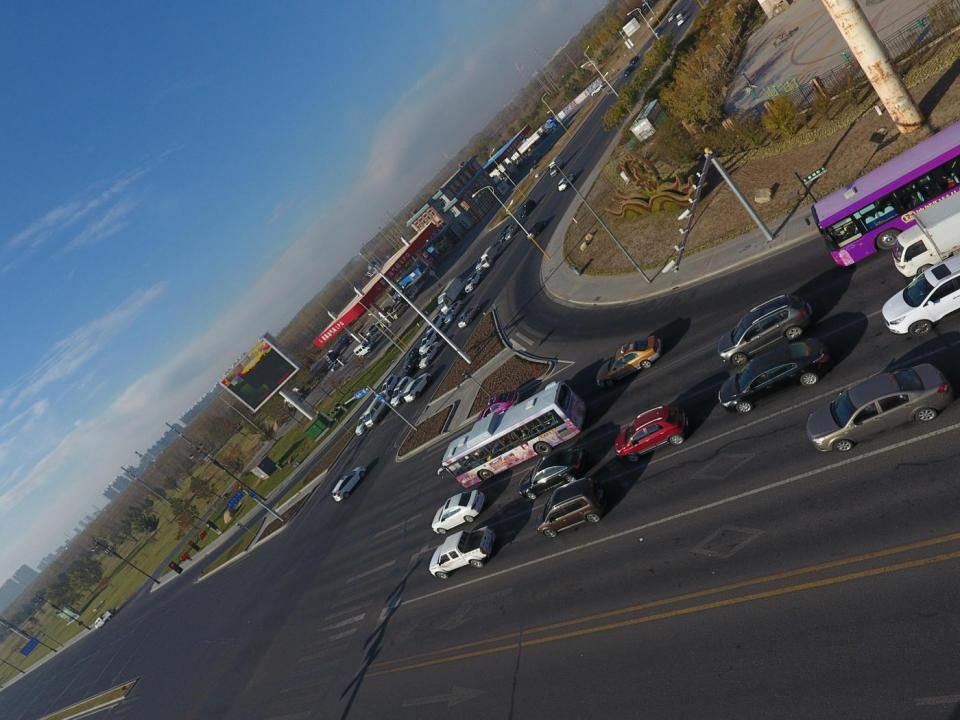bus: (811, 117, 960, 268), (442, 380, 586, 487)
car: (806, 362, 955, 452), (718, 336, 830, 412), (718, 293, 812, 366), (882, 250, 960, 337), (536, 479, 608, 538), (615, 405, 689, 462), (518, 446, 588, 500), (596, 336, 662, 389), (431, 489, 485, 535), (475, 389, 521, 427), (332, 466, 367, 503), (405, 373, 432, 403), (391, 376, 414, 406), (418, 342, 442, 370), (418, 330, 441, 355), (458, 305, 480, 331), (444, 300, 463, 325), (355, 410, 373, 436), (399, 359, 421, 380), (380, 374, 400, 396), (402, 346, 421, 368), (428, 313, 444, 337), (526, 220, 546, 239), (466, 271, 483, 293), (519, 198, 535, 218), (558, 173, 576, 190), (506, 222, 521, 242), (498, 226, 514, 242), (476, 255, 488, 270), (591, 83, 604, 96), (366, 323, 378, 336), (623, 64, 635, 77), (403, 285, 417, 296), (531, 150, 541, 165), (677, 15, 688, 28), (392, 290, 405, 300), (629, 54, 639, 67), (675, 7, 686, 18), (668, 10, 677, 22), (654, 26, 663, 34)
truck: (890, 184, 960, 279), (429, 526, 496, 581), (284, 358, 328, 408), (438, 276, 466, 315), (509, 133, 542, 161), (529, 115, 559, 145), (325, 332, 350, 361), (94, 606, 116, 630), (522, 126, 548, 145), (480, 245, 499, 268), (408, 280, 427, 300), (548, 155, 564, 178)
van: (363, 393, 391, 427), (353, 341, 375, 358), (380, 304, 393, 320), (394, 303, 406, 319), (363, 332, 380, 342), (332, 356, 343, 370)
